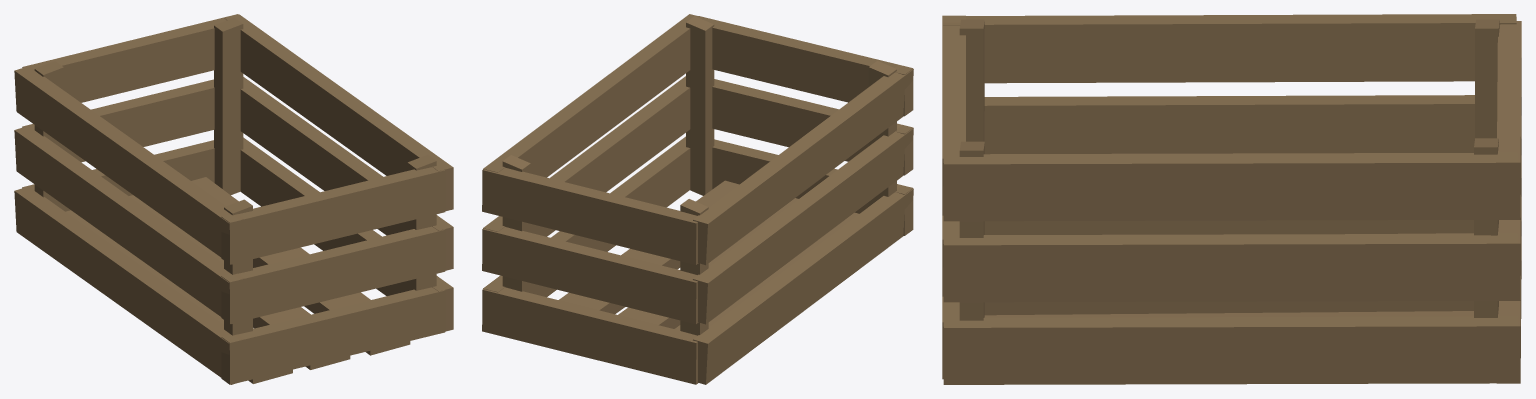
Rendered from Crate.fbx.
The picture shows the model from 3 angles, left to right: view 1: azimuth 30°, elevation 25°; view 2: azimuth 150°, elevation 25°; view 3: azimuth 270°, elevation 25°; orthographic projection. The views are drawn at different scales.
Parts seen in each view (by area): view 1: pasted__pasted__pCube2 (×5), pasted__pasted__pasted__pCube2 (×4), pasted__pCube2 (×3), pasted__pasted__pasted__pasted__pCube2 (×3), pCube2, pasted__pasted__pasted__pasted__pasted__pasted__pasted__pCub, pasted__pasted__pasted__pasted__pasted__pasted__pCube2, pasted__pasted__pasted__pasted__pasted__pCube2; view 2: pasted__pasted__pCube2 (×5), pasted__pasted__pasted__pCube2 (×4), pasted__pCube2 (×3), pasted__pasted__pasted__pasted__pCube2 (×3), pasted__pasted__pasted__pasted__pasted__pasted__pCube2, pCube2, pasted__pasted__pasted__pasted__pasted__pasted__pasted__pCub, pasted__pasted__pasted__pasted__pasted__pCube2; view 3: pasted__pasted__pasted__pCube2 (×4), pasted__pasted__pCube2 (×5), pasted__pCube2 (×2), pasted__pasted__pasted__pasted__pCube2 (×2), pasted__pasted__pasted__pasted__pasted__pCube2, pasted__pasted__pasted__pasted__pasted__pasted__pCube2, pasted__pasted__pasted__pasted__pasted__pasted__pasted__pCub.
Boxes of the visible parts, x1,y1,x2,y2 form: pasted__pasted__pCube2 (×5): [14, 77, 453, 384]; pasted__pasted__pasted__pCube2 (×4): [14, 14, 453, 369]; pasted__pCube2 (×3): [22, 137, 453, 331]; pasted__pasted__pasted__pasted__pCube2 (×3): [14, 61, 292, 383]; pCube2: [221, 287, 445, 384]; pasted__pasted__pasted__pasted__pasted__pasted__pasted__pCub: [214, 17, 243, 194]; pasted__pasted__pasted__pasted__pasted__pasted__pCube2: [407, 155, 436, 290]; pasted__pasted__pasted__pasted__pasted__pCube2: [224, 199, 252, 335]; pasted__pasted__pCube2 (×5): [482, 16, 913, 384]; pasted__pasted__pasted__pCube2 (×4): [482, 14, 913, 328]; pasted__pCube2 (×3): [482, 79, 913, 384]; pasted__pasted__pasted__pasted__pCube2 (×3): [674, 65, 913, 335]; pasted__pasted__pasted__pasted__pasted__pasted__pCube2: [686, 16, 714, 195]; pCube2: [712, 139, 913, 235]; pasted__pasted__pasted__pasted__pasted__pasted__pasted__pCub: [502, 155, 530, 292]; pasted__pasted__pasted__pasted__pasted__pCube2: [868, 61, 896, 206]; pasted__pasted__pasted__pCube2 (×4): [943, 21, 1521, 315]; pasted__pasted__pCube2 (×5): [942, 15, 1521, 317]; pasted__pCube2 (×2): [943, 197, 1521, 384]; pasted__pasted__pasted__pasted__pCube2 (×2): [943, 14, 1516, 138]; pasted__pasted__pasted__pasted__pasted__pCube2: [959, 19, 984, 141]; pasted__pasted__pasted__pasted__pasted__pasted__pCube2: [959, 141, 984, 320]; pasted__pasted__pasted__pasted__pasted__pasted__pasted__pCub: [1474, 138, 1498, 317].
Bounding box in the file's own units: 4.89 × 3.53 × 7.88.
